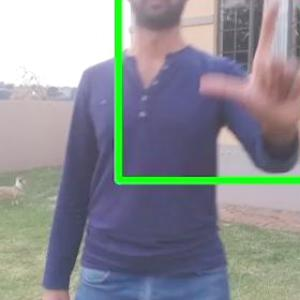land_hand: (198, 0, 299, 137)
